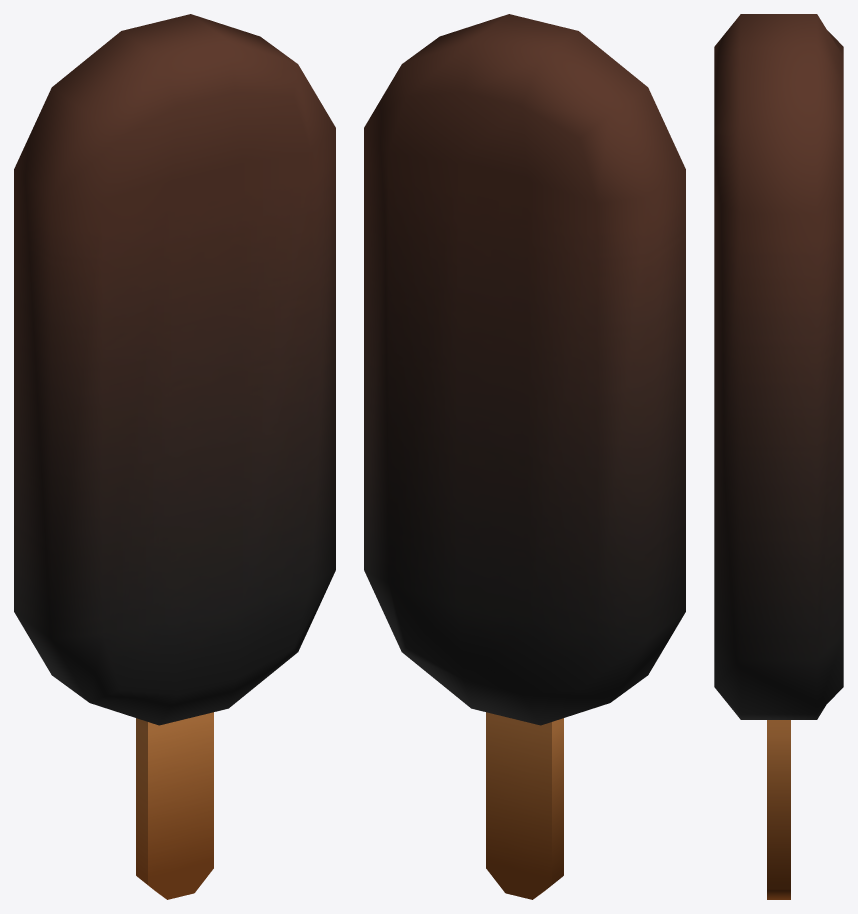
Rendered from m_Popsicle04.fbx.
The picture shows the model from 3 angles, left to right: view 1: azimuth 30°, elevation 25°; view 2: azimuth 150°, elevation 25°; view 3: azimuth 270°, elevation 25°; orthographic projection.
Parts seen in each view (by area): view 1: m_Popsicle04; view 2: m_Popsicle04; view 3: m_Popsicle04.
Part boxes in pixels (x1,y1,x2,y2): m_Popsicle04: (14, 14, 335, 899); m_Popsicle04: (364, 14, 685, 899); m_Popsicle04: (714, 14, 843, 899).
Bounding box in the file's own units: 7.98 × 22.99 × 3.12.
